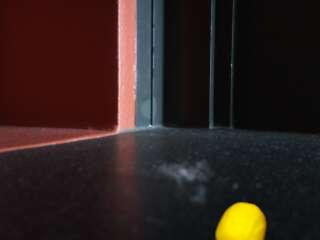Lemon: (215, 203, 268, 240)
